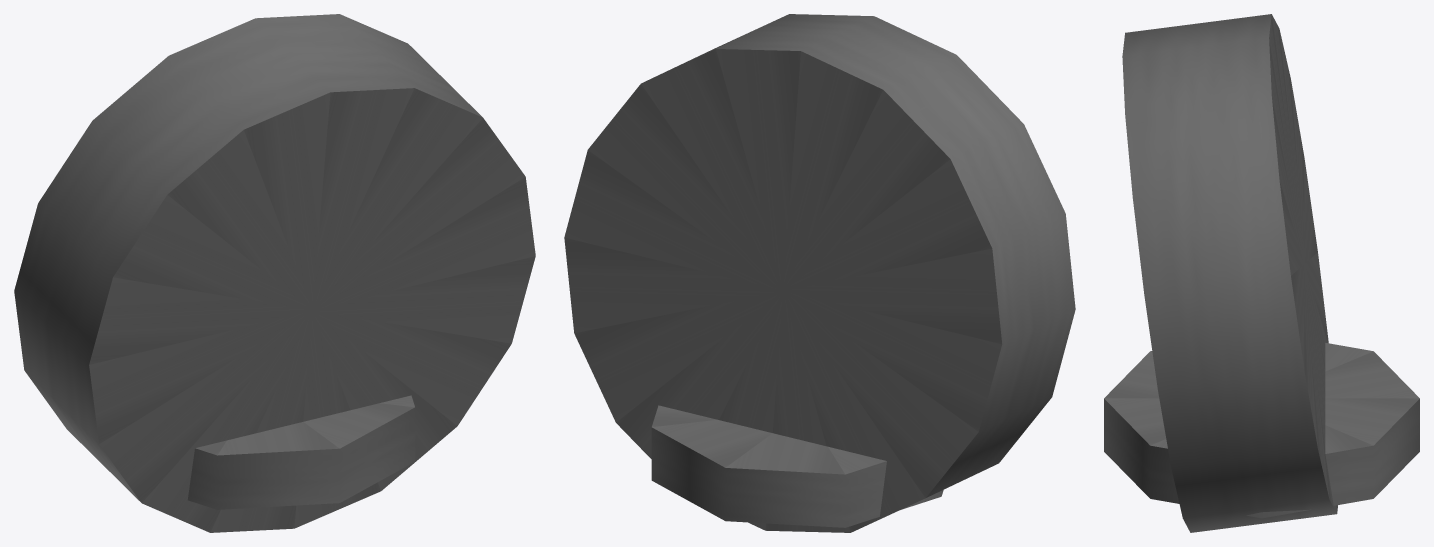
The model's file is mastarmcurve_10x2_c8_down.obj.
3 views of the same model, side by side, from view 1: azimuth 30°, elevation 25°; view 2: azimuth 150°, elevation 25°; view 3: azimuth 270°, elevation 25° (orthographic). The views are drawn at different scales.
Parts seen in each view (by area): view 1: mastarm_10x2_c8_down; view 2: mastarm_10x2_c8_down; view 3: mastarm_10x2_c8_down.
Boxes of the visible parts, bbox=[...] form: mastarm_10x2_c8_down: bbox=[14, 14, 535, 532]; mastarm_10x2_c8_down: bbox=[564, 14, 1075, 532]; mastarm_10x2_c8_down: bbox=[1104, 14, 1419, 532].
Bounding box in the file's own units: 0.639 × 0.659 × 0.4.
